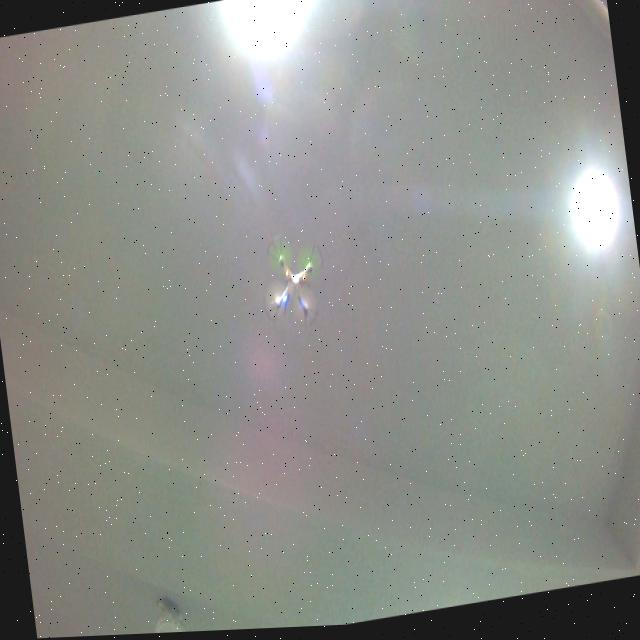drone: (252, 227, 333, 337)
